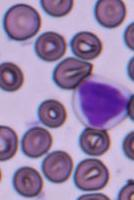L: (72, 74, 131, 130)
